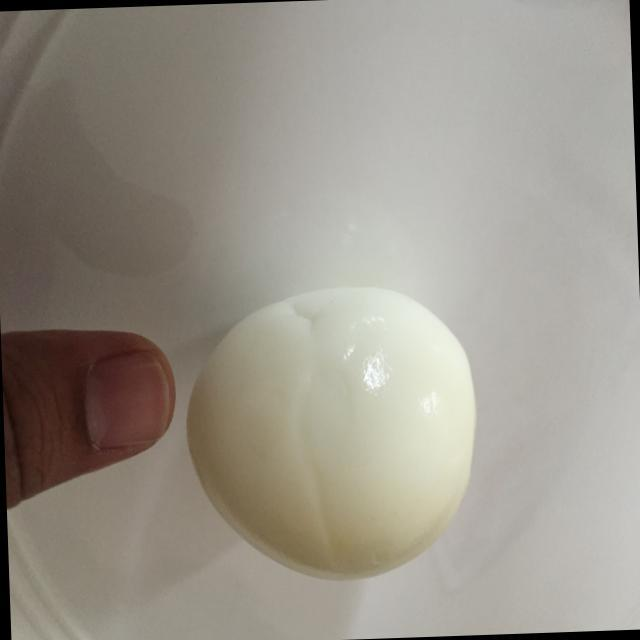Egg: (176, 279, 488, 590)
Finger: (6, 312, 188, 510)
